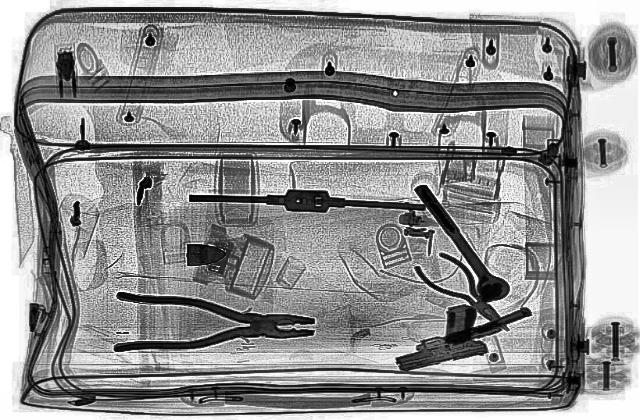Gun: (370, 302, 500, 373), (411, 304, 537, 356)
Pliers: (106, 290, 318, 360), (406, 249, 528, 339)
